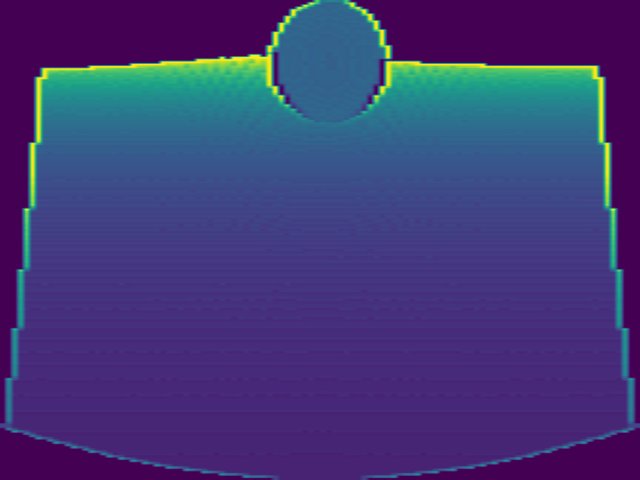sphere: (266, 1, 390, 125)
